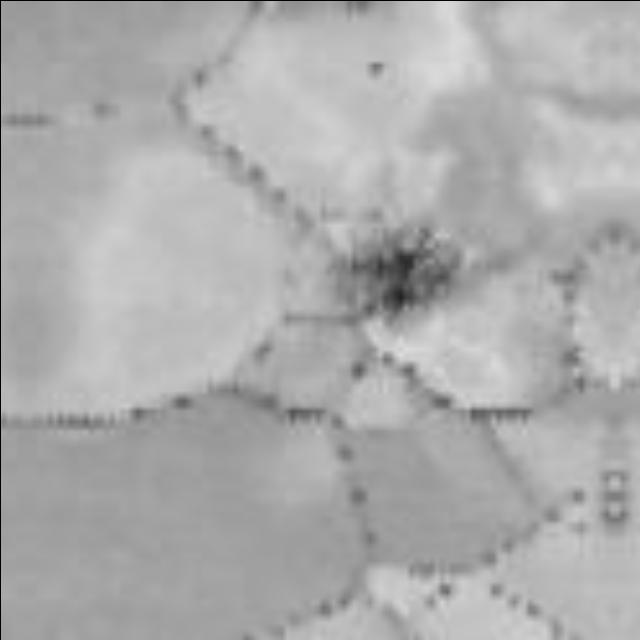good_void: (335, 223, 463, 324), (362, 57, 389, 84)
